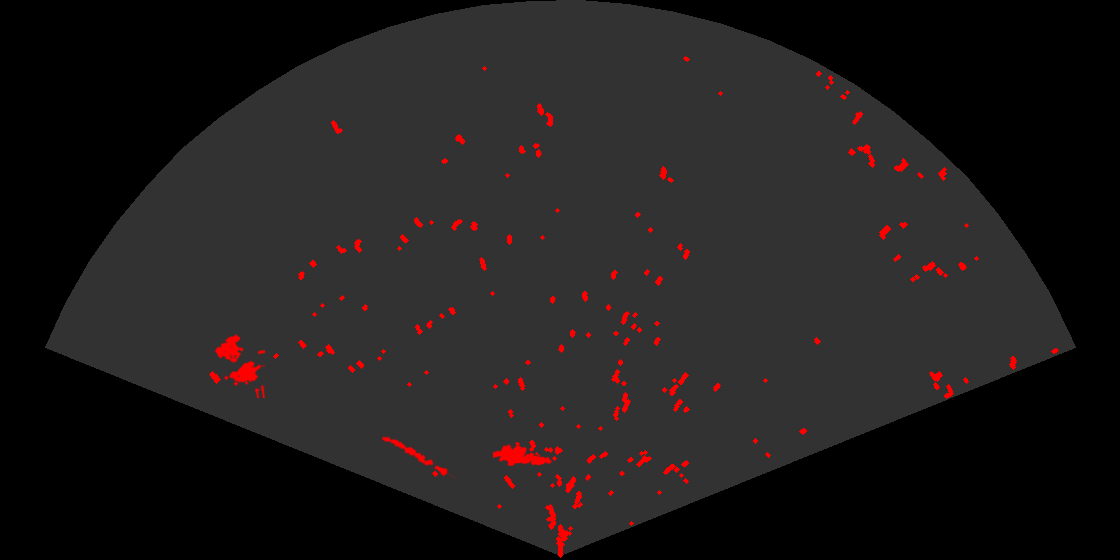cage: (213, 332, 265, 398)
chain: (379, 435, 456, 481)
frogman: (493, 440, 554, 468)
